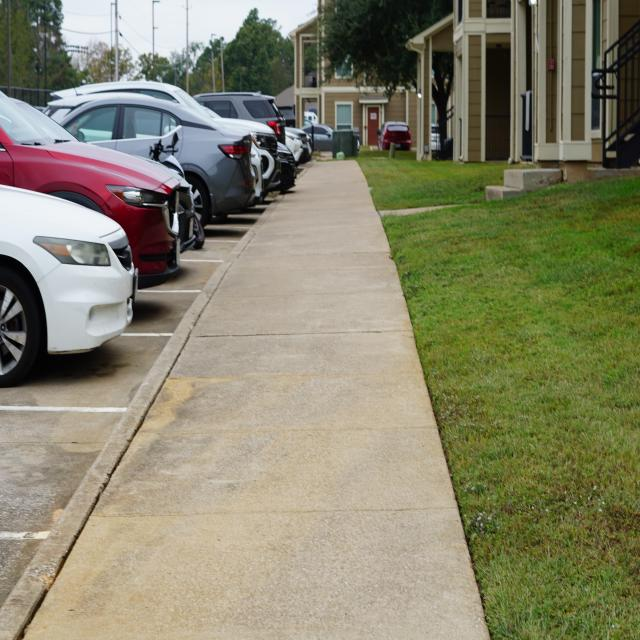Automobile: (0, 82, 339, 354), (0, 278, 39, 386), (377, 122, 411, 150)
Road: (0, 206, 265, 532), (0, 539, 41, 606)
Sidewalk: (25, 161, 489, 638), (0, 269, 226, 640)
